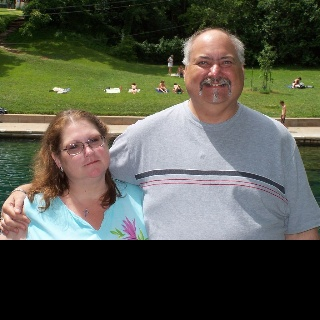without_mask: (184, 33, 245, 103)
